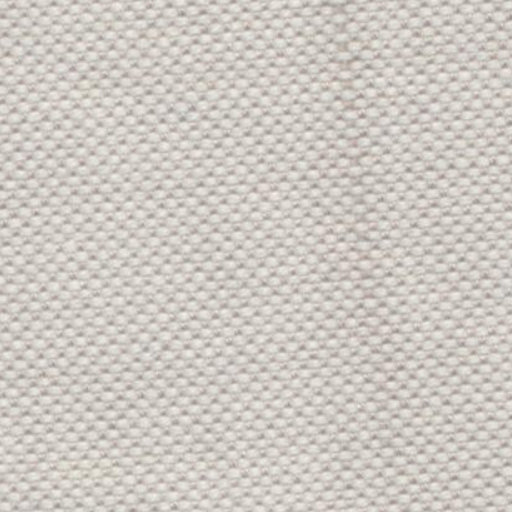TuoSha: (302, 7, 416, 494)
